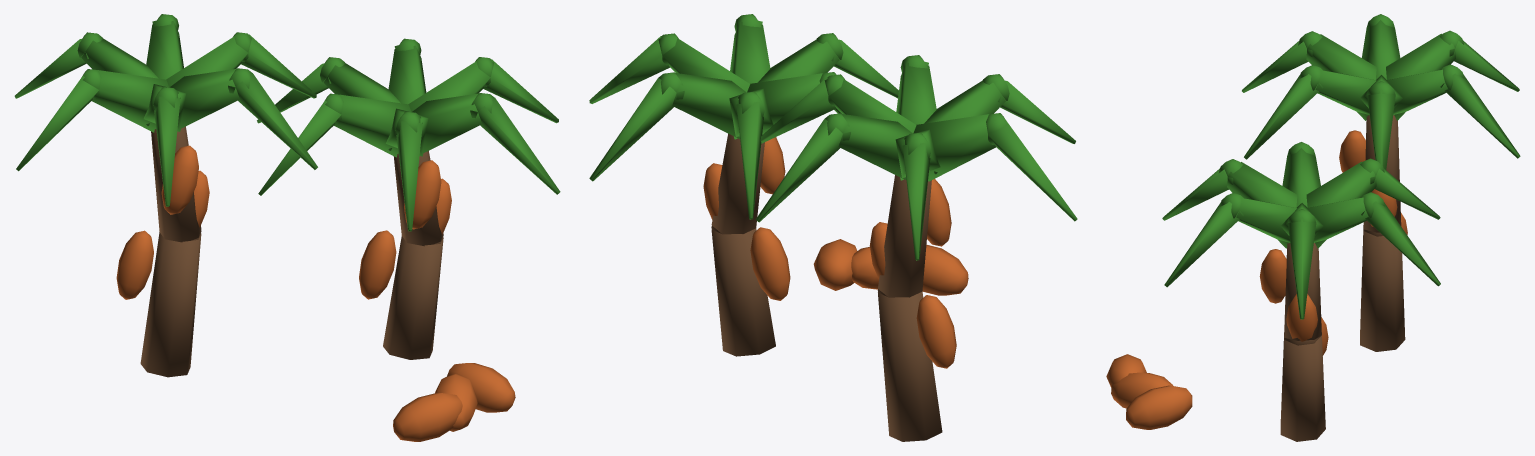
File: resource_cocoa.fbx
3 renders of one model, left to right at view 1: azimuth 30°, elevation 25°; view 2: azimuth 150°, elevation 25°; view 3: azimuth 270°, elevation 25°, orthographic. The views are drawn at different scales.
Visible parts, largest first — view 1: resource_cocoa_cleaf_01, resource_cocoa_wood#6a4a30_00, resource_cocoa_pod_02; view 2: resource_cocoa_cleaf_01, resource_cocoa_wood#6a4a30_00, resource_cocoa_pod_02; view 3: resource_cocoa_cleaf_01, resource_cocoa_wood#6a4a30_00, resource_cocoa_pod_02.
Boxes of the visible parts, box(x1,y1,x2,y2) form: resource_cocoa_cleaf_01: box(14, 14, 560, 231); resource_cocoa_wood#6a4a30_00: box(140, 126, 443, 377); resource_cocoa_pod_02: box(116, 145, 515, 441); resource_cocoa_cleaf_01: box(589, 14, 1077, 260); resource_cocoa_wood#6a4a30_00: box(711, 133, 942, 441); resource_cocoa_pod_02: box(703, 137, 968, 368); resource_cocoa_cleaf_01: box(1162, 14, 1520, 319); resource_cocoa_wood#6a4a30_00: box(1280, 115, 1405, 441); resource_cocoa_pod_02: box(1106, 130, 1407, 429).
Bounding box in the file's own units: 101 × 61.32 × 78.31.
